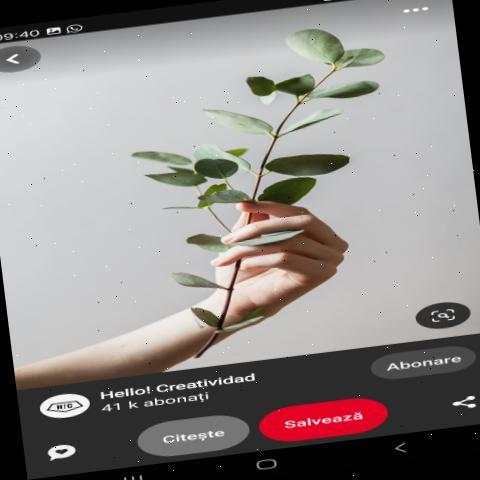Hands: (214, 173, 379, 320)
